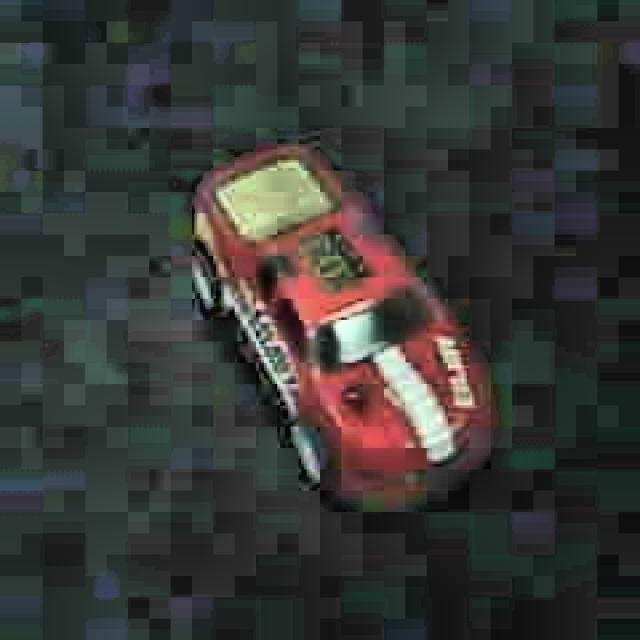car: (183, 141, 497, 518)
